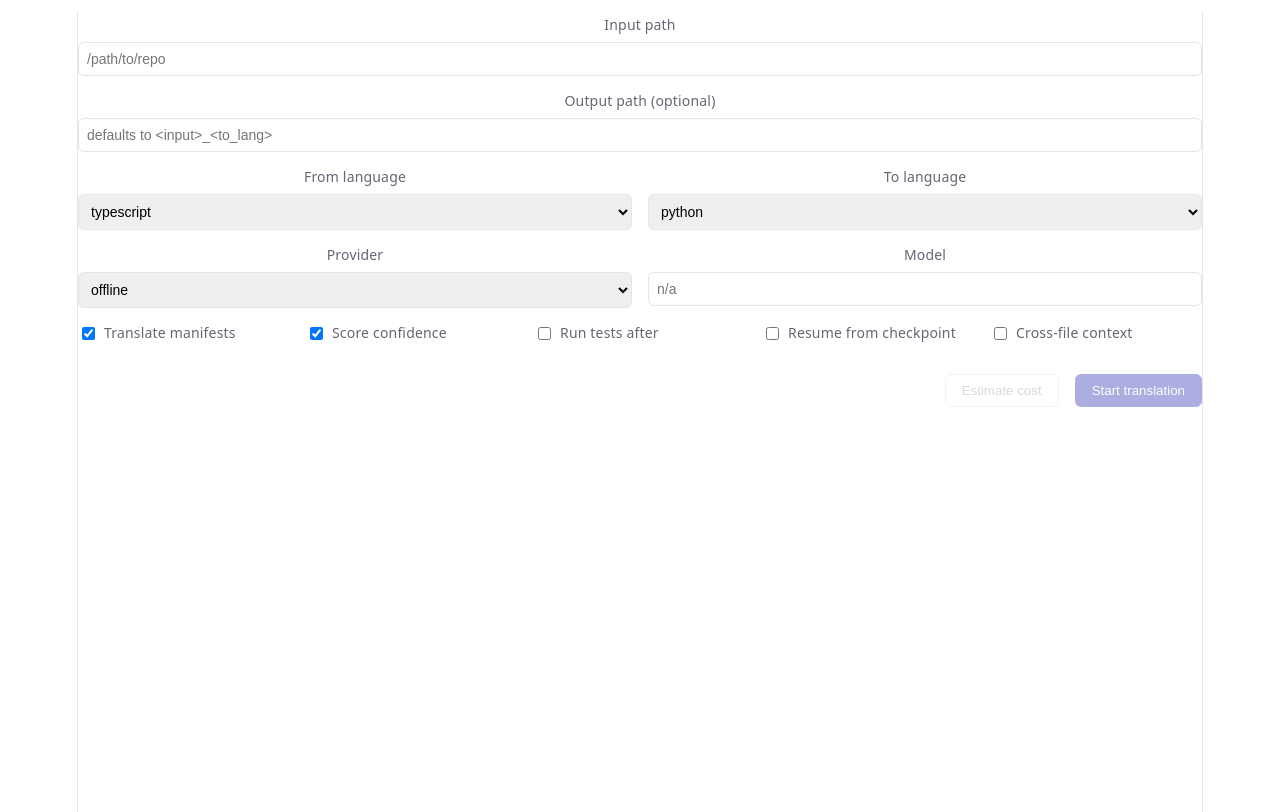
Test: TranslateForm › warns when the offline provider does not support the selected language pair
Expected: the text "From language" is shown, [78,164,632,230]
Step 1. Select "typescript" in the dropdown labelled "To language" → (925, 212), box [648,194,1202,230]
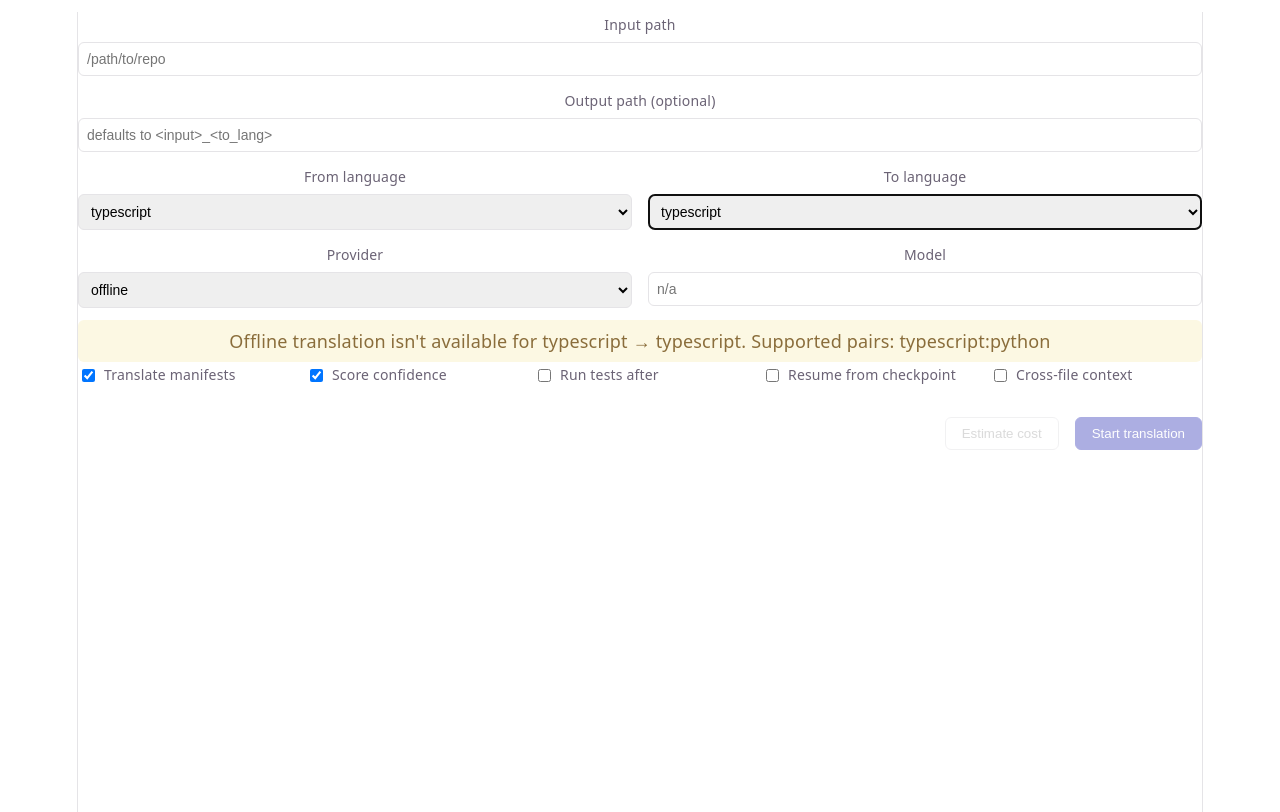
Expected: the text "isn't available for" is shown, [229,329,542,353]
